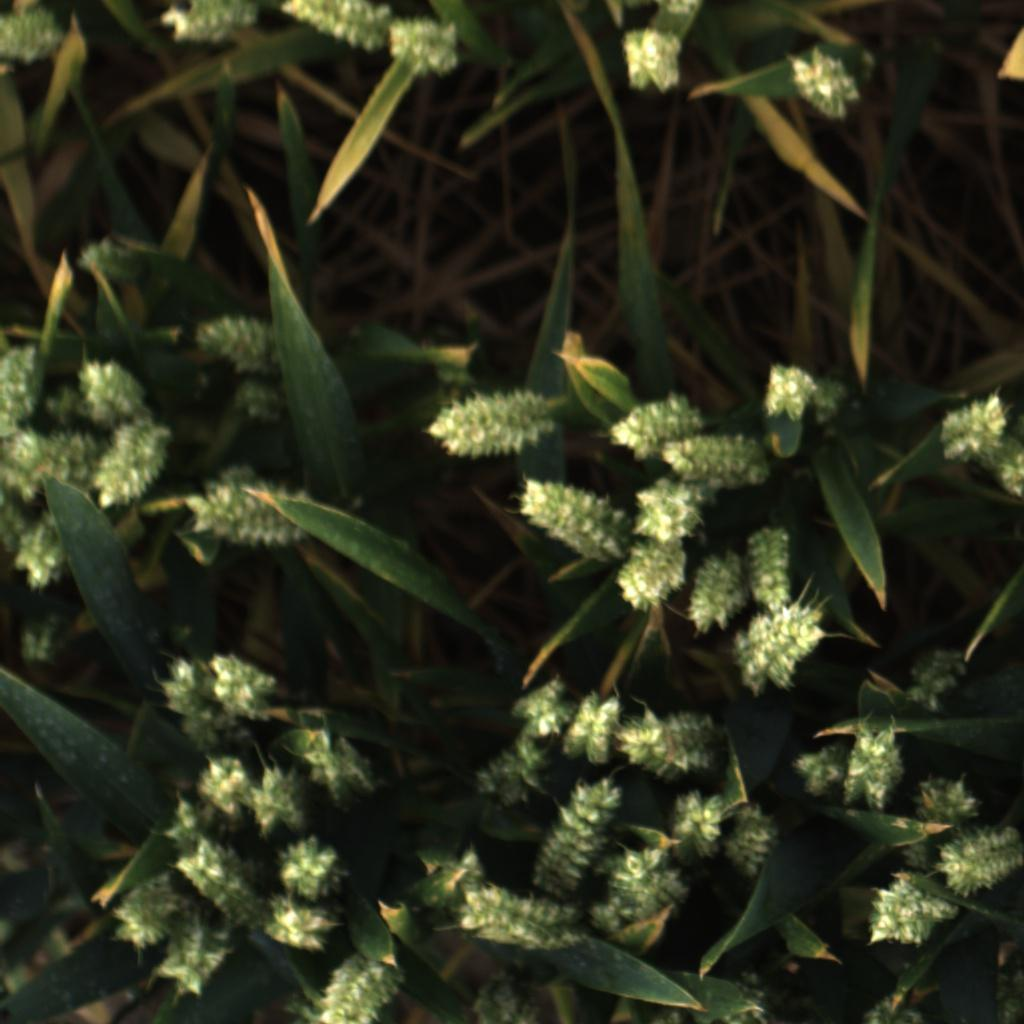0-0: (424, 379, 560, 462), (535, 775, 625, 899), (735, 600, 834, 706), (507, 473, 621, 563), (0, 425, 121, 502), (150, 650, 245, 746), (461, 879, 575, 955), (592, 847, 682, 942), (858, 867, 956, 953), (613, 698, 716, 779), (184, 473, 296, 546), (902, 769, 981, 870), (758, 358, 857, 438), (47, 350, 152, 423), (101, 421, 183, 512), (178, 841, 260, 928), (292, 714, 375, 799), (931, 383, 1013, 469), (839, 721, 912, 817), (155, 923, 235, 1007), (622, 475, 710, 551), (661, 425, 770, 486), (601, 26, 693, 96), (598, 395, 695, 460), (413, 849, 501, 920), (472, 733, 550, 813), (934, 826, 1021, 897), (682, 551, 749, 639), (790, 45, 865, 123), (741, 524, 801, 621), (556, 685, 626, 768), (662, 782, 731, 865), (718, 795, 785, 880), (253, 892, 341, 956), (276, 0, 385, 51), (275, 829, 348, 905), (192, 751, 261, 830), (211, 643, 277, 724), (11, 509, 69, 601), (385, 13, 467, 77), (894, 649, 966, 721), (189, 309, 289, 360), (251, 756, 311, 839), (103, 871, 168, 947), (619, 542, 687, 614), (316, 959, 390, 1024), (511, 664, 572, 738), (0, 340, 46, 437), (161, 0, 253, 45), (781, 739, 847, 800), (226, 376, 295, 434), (2, 10, 63, 75), (703, 975, 779, 1024), (466, 979, 548, 1024), (73, 233, 143, 284), (159, 789, 207, 849), (17, 611, 66, 669), (990, 444, 1024, 504)
